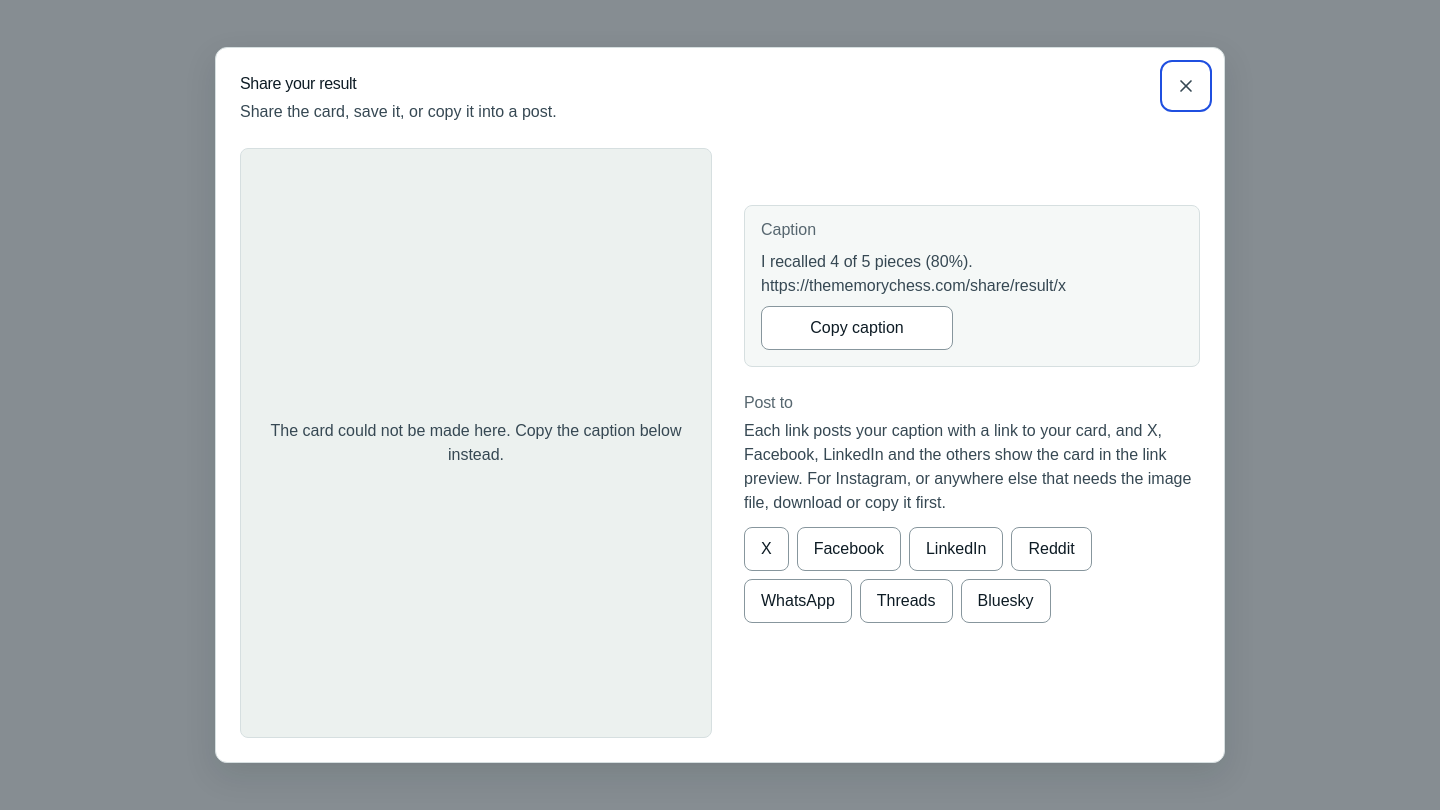
Share dialog post buttons › opens a network's post page without a link analytics click tracking could record
Click the button named "X (opens in a new tab)".
click(766, 549)  # box [744,527,789,571]
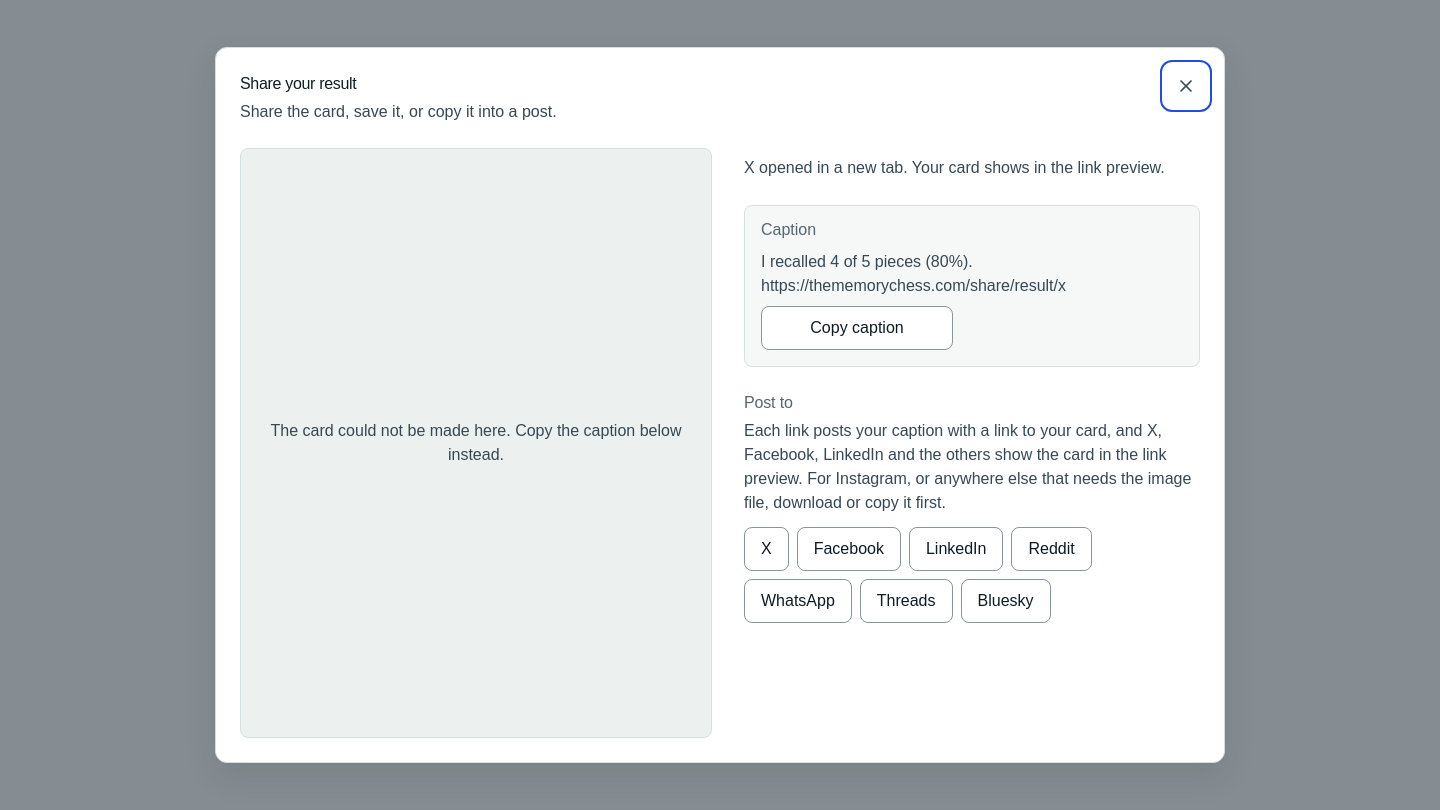
Check: the message shows "X", box [744,159,1165,176]
